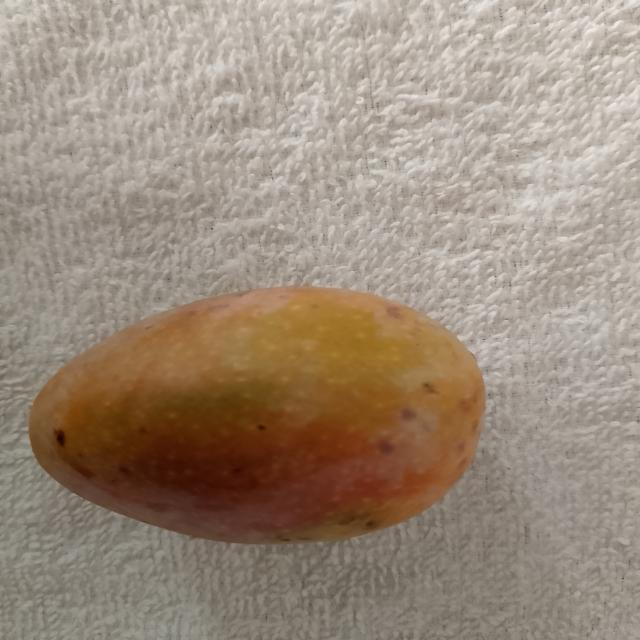mango: (30, 288, 484, 543)
